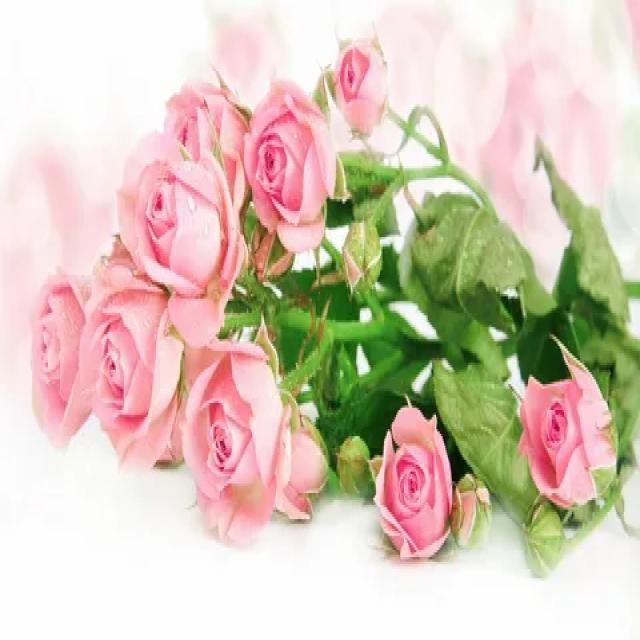rose: (173, 325, 320, 553), (510, 326, 630, 532), (240, 60, 349, 267), (363, 384, 473, 578)
